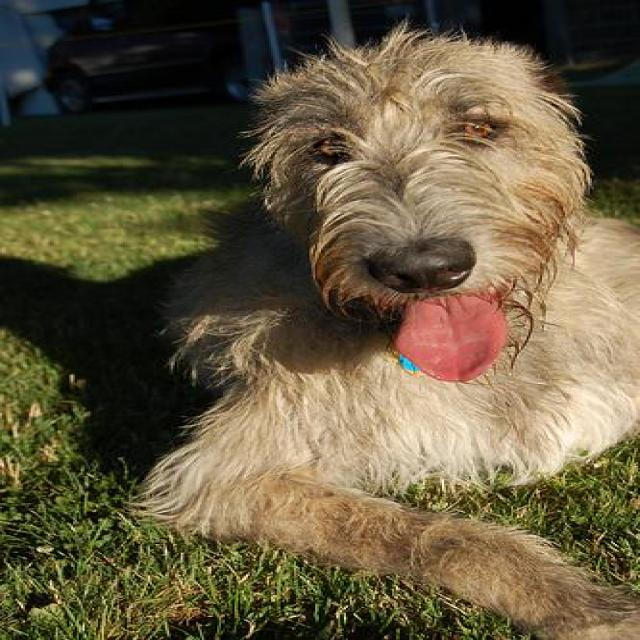irish_wolfhound: (119, 17, 636, 636)
